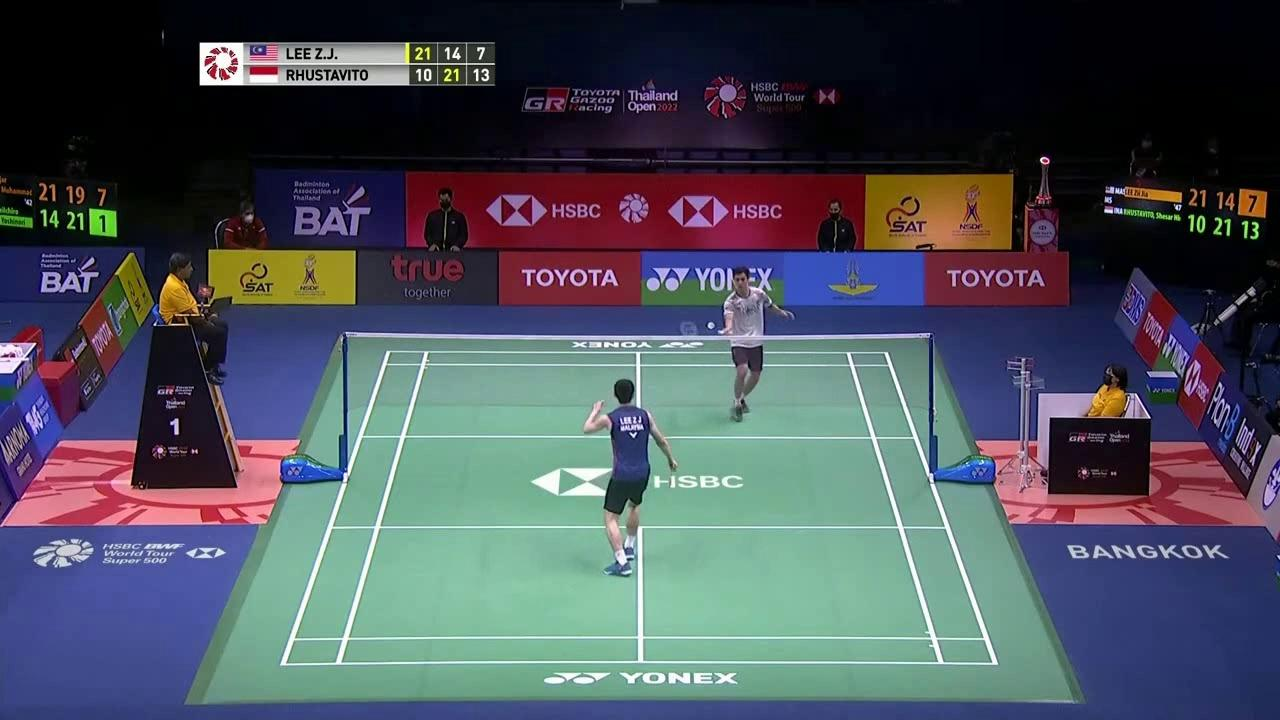racket: (678, 320, 734, 339), (666, 461, 677, 490)
shuttle: (706, 321, 716, 330)
